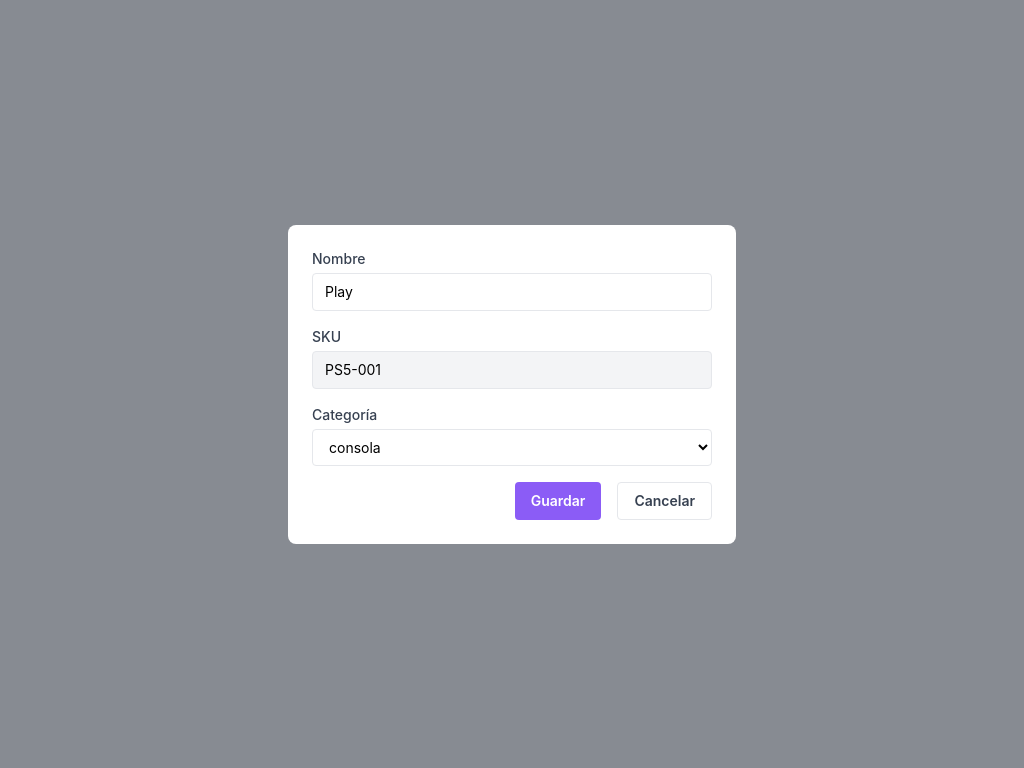
Scenario: T06 — ProductoFormModal modo edición — RF-3 › valida solo presencia en edición
Clear the field labelled "Nombre" at (512, 292), box [312, 272, 712, 310]
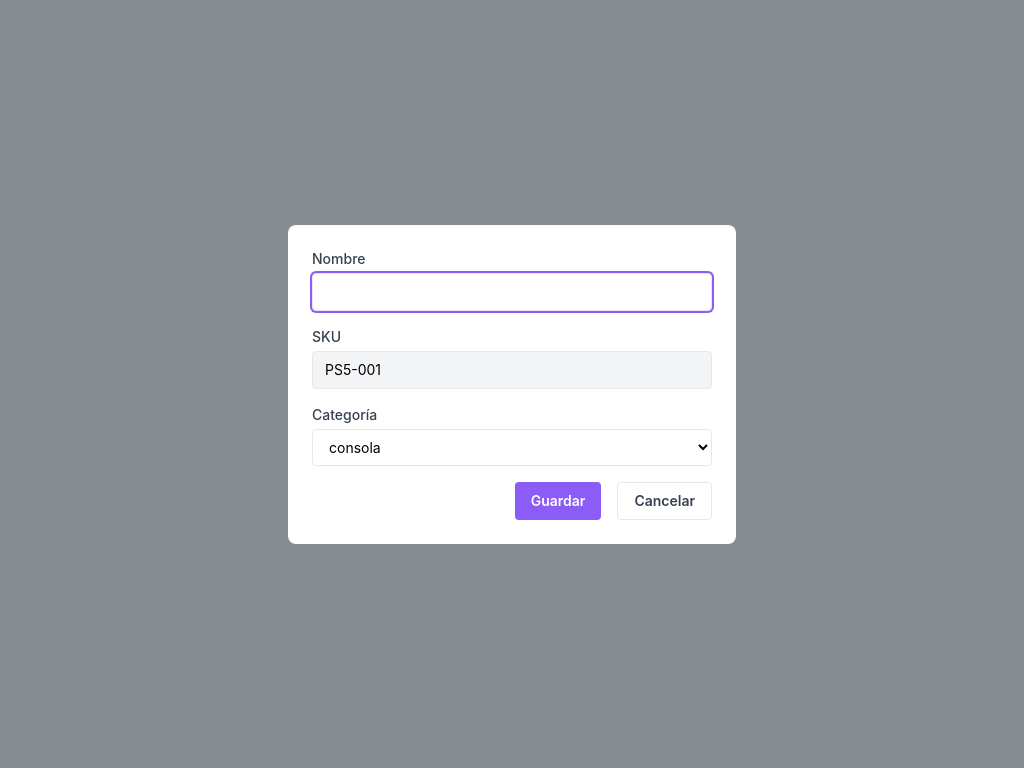
Click the button "Guardar".
click(558, 500)  # box [515, 482, 601, 520]
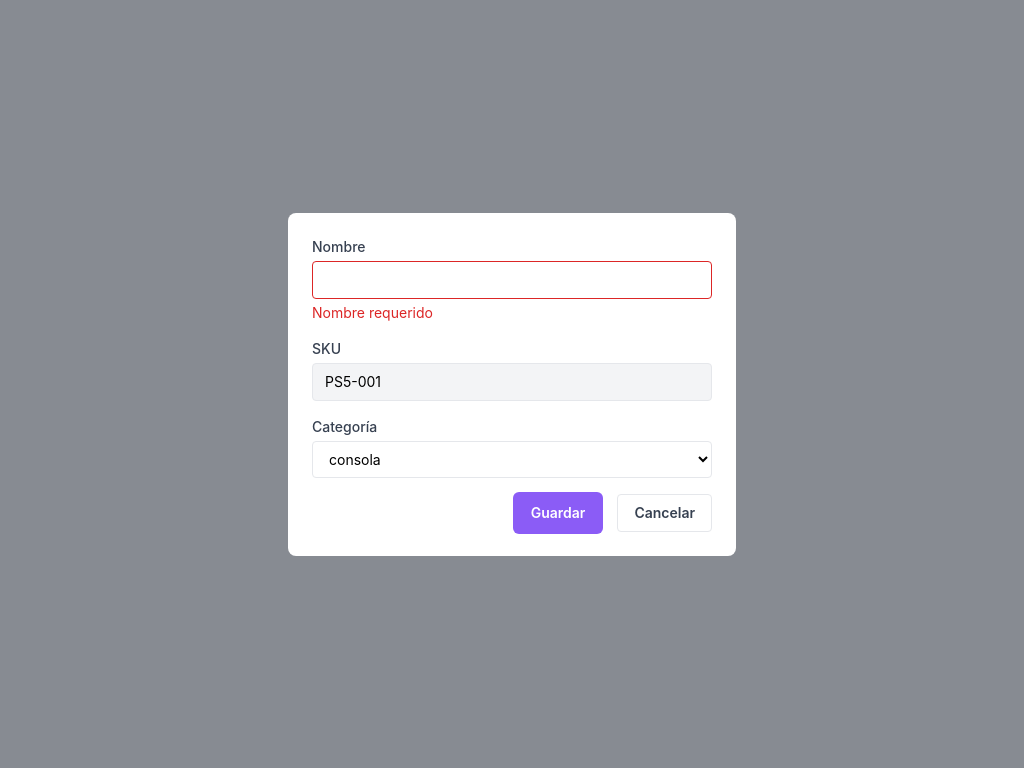
Check: the text "Nombre requerido" is shown, box [312, 304, 433, 320]
